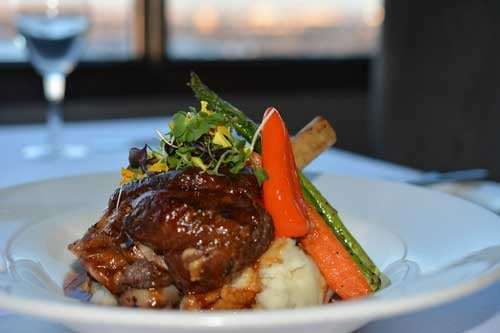sandwich: (19, 6, 91, 162)
sushi: (1, 1, 145, 72)
